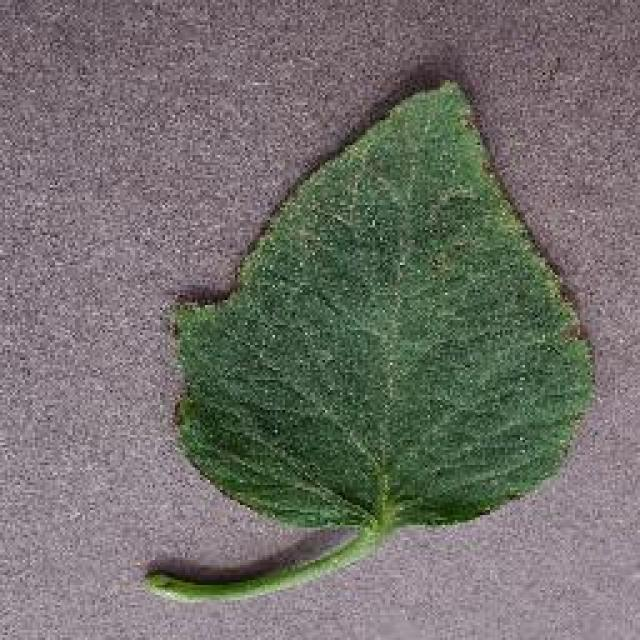Tomato Septoria spot leaf: (162, 76, 598, 536)
